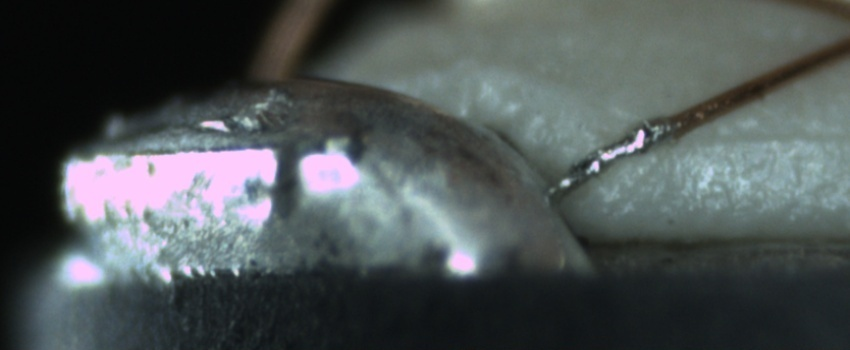DL: (693, 107, 849, 167)
TS: (555, 116, 675, 194)
TTCW: (538, 97, 714, 204)
